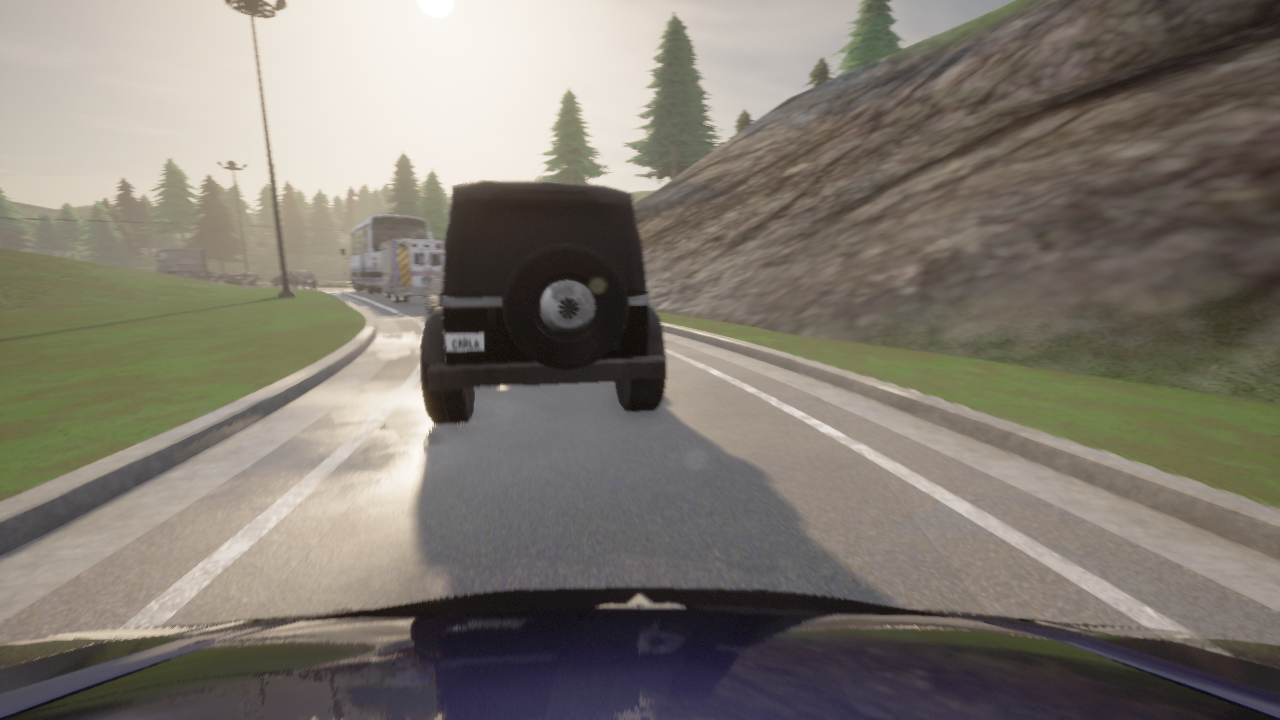cyclist: (0, 588, 1279, 719), (421, 181, 665, 423), (339, 214, 431, 294), (375, 239, 444, 303), (155, 248, 262, 286), (421, 265, 442, 314), (270, 270, 317, 287)
